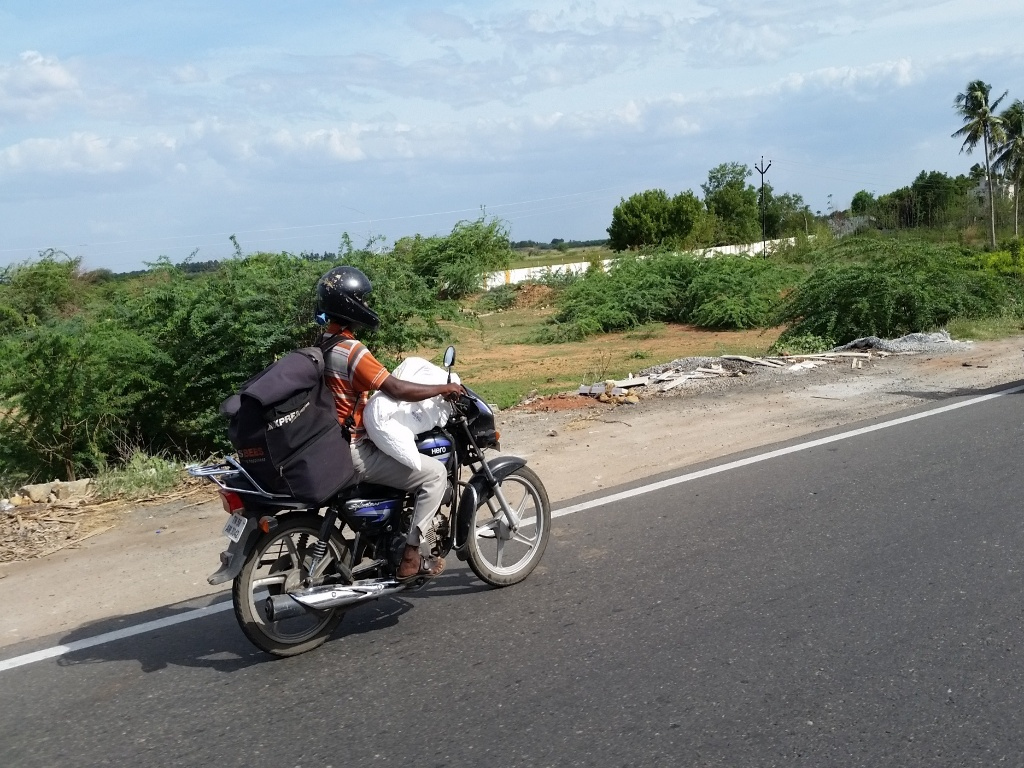biker: (164, 218, 574, 671)
helmet: (304, 256, 398, 341)
